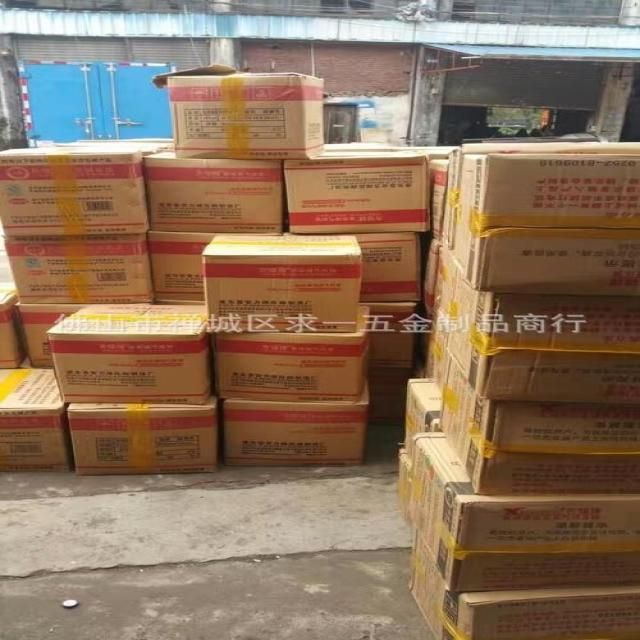box: (406, 432, 640, 592), (440, 356, 640, 495), (451, 154, 640, 296), (447, 271, 640, 405), (407, 532, 640, 640), (46, 305, 215, 405), (154, 64, 324, 160), (201, 235, 362, 332), (214, 306, 370, 404), (0, 146, 148, 237), (284, 151, 433, 234), (67, 395, 220, 475), (221, 385, 369, 467), (142, 153, 283, 233), (4, 233, 155, 304), (303, 232, 422, 302), (0, 369, 74, 472), (15, 302, 90, 367), (147, 231, 215, 302), (358, 301, 416, 378), (428, 246, 456, 351), (0, 282, 32, 366), (428, 159, 449, 238)
